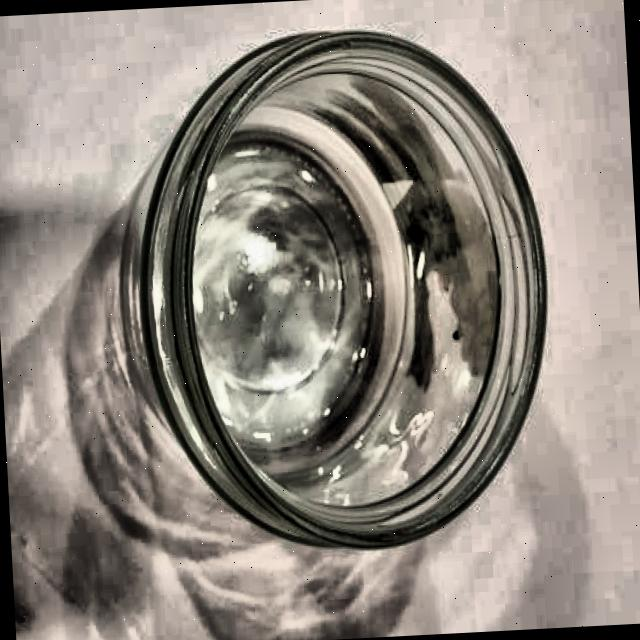glass: (103, 22, 566, 560)
